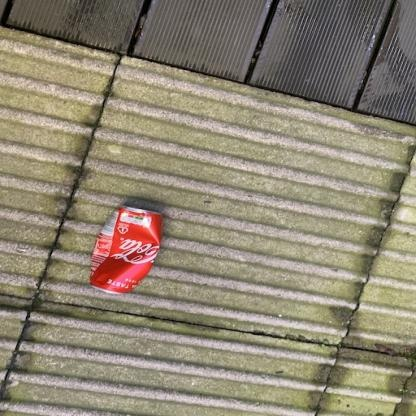trash: (89, 207, 161, 292)
